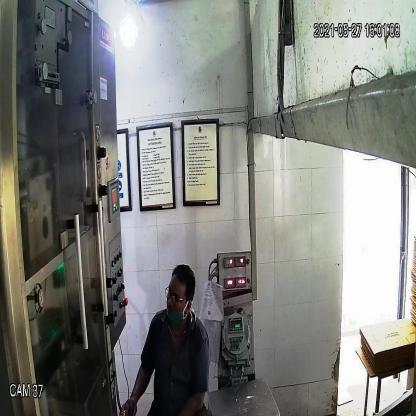goggles: (163, 281, 192, 306)
